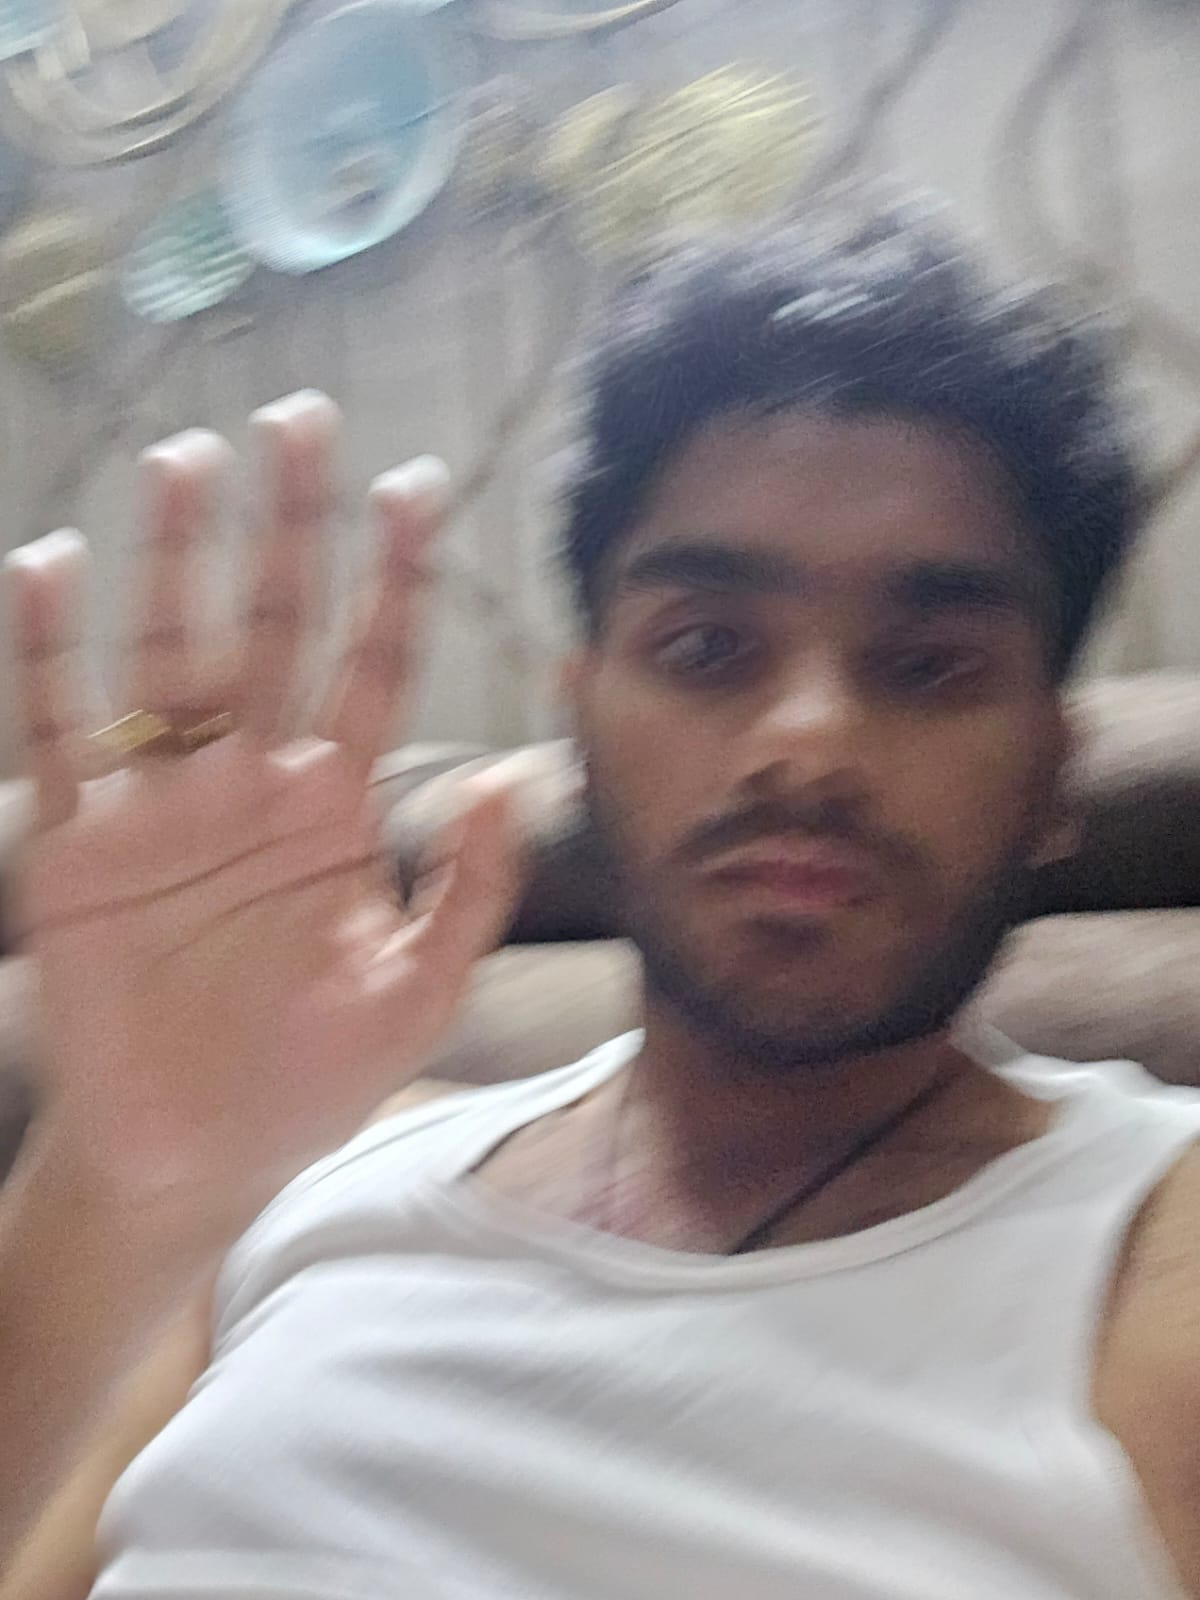hello: (11, 389, 521, 1199)
